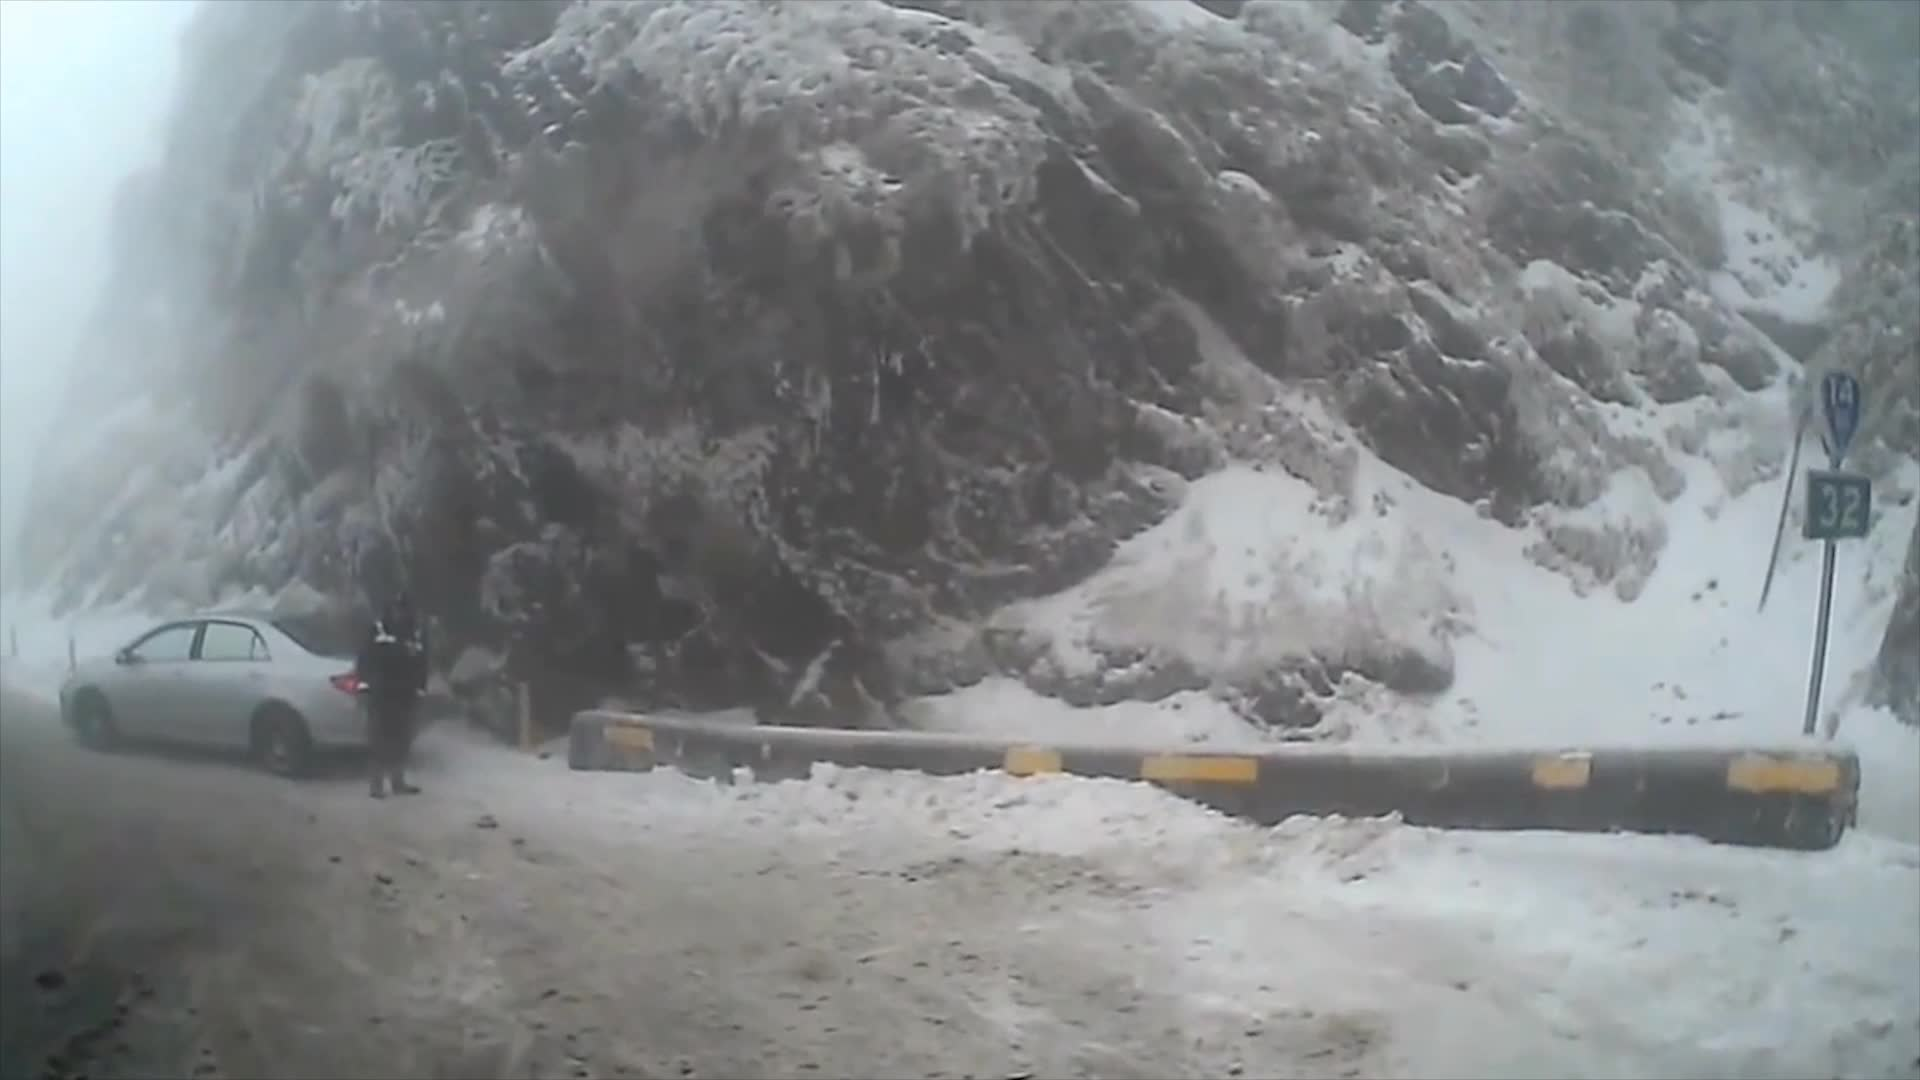pedestrian: (358, 592, 434, 797)
vehicle: (62, 606, 433, 781)
